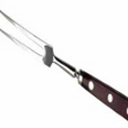fork: (1, 3, 128, 126)
